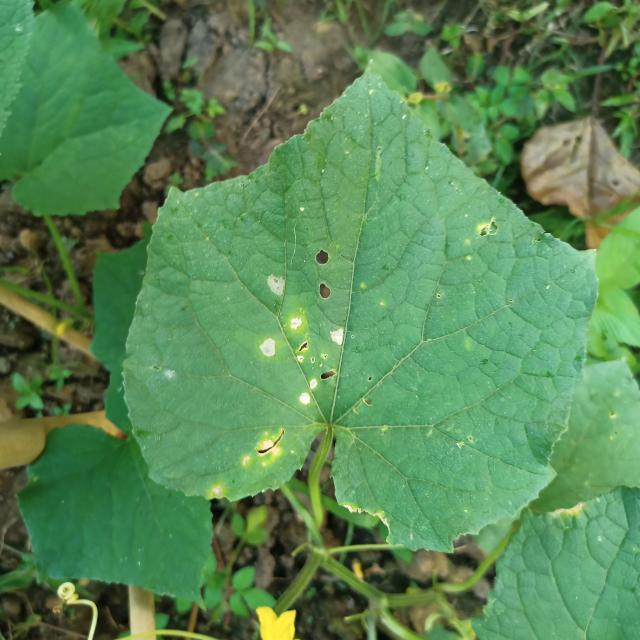disease_cucumber: (252, 267, 360, 409)
